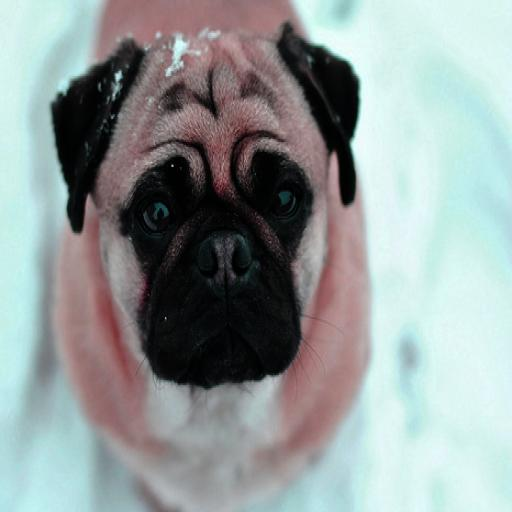dog_face: (48, 28, 365, 387)
